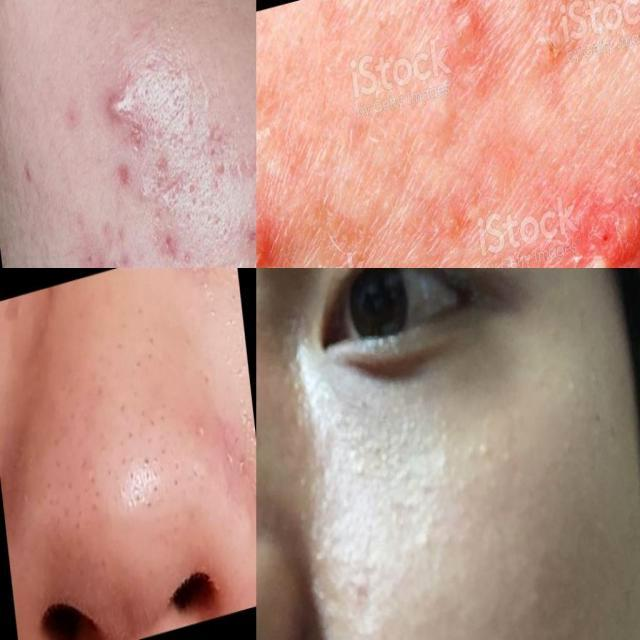Pimples: (258, 302, 340, 469), (353, 393, 466, 487), (291, 472, 360, 600), (556, 178, 640, 268), (430, 0, 506, 77), (550, 346, 622, 418), (476, 417, 536, 498), (294, 232, 388, 268), (126, 443, 170, 518), (98, 77, 150, 136), (256, 154, 279, 268), (10, 156, 46, 212), (153, 440, 188, 494), (110, 396, 140, 456), (72, 470, 106, 520), (156, 223, 187, 268), (187, 410, 220, 450), (137, 396, 171, 434), (207, 152, 239, 192), (155, 144, 178, 190), (108, 156, 135, 192), (18, 480, 38, 522), (240, 216, 256, 268), (105, 258, 128, 268)
